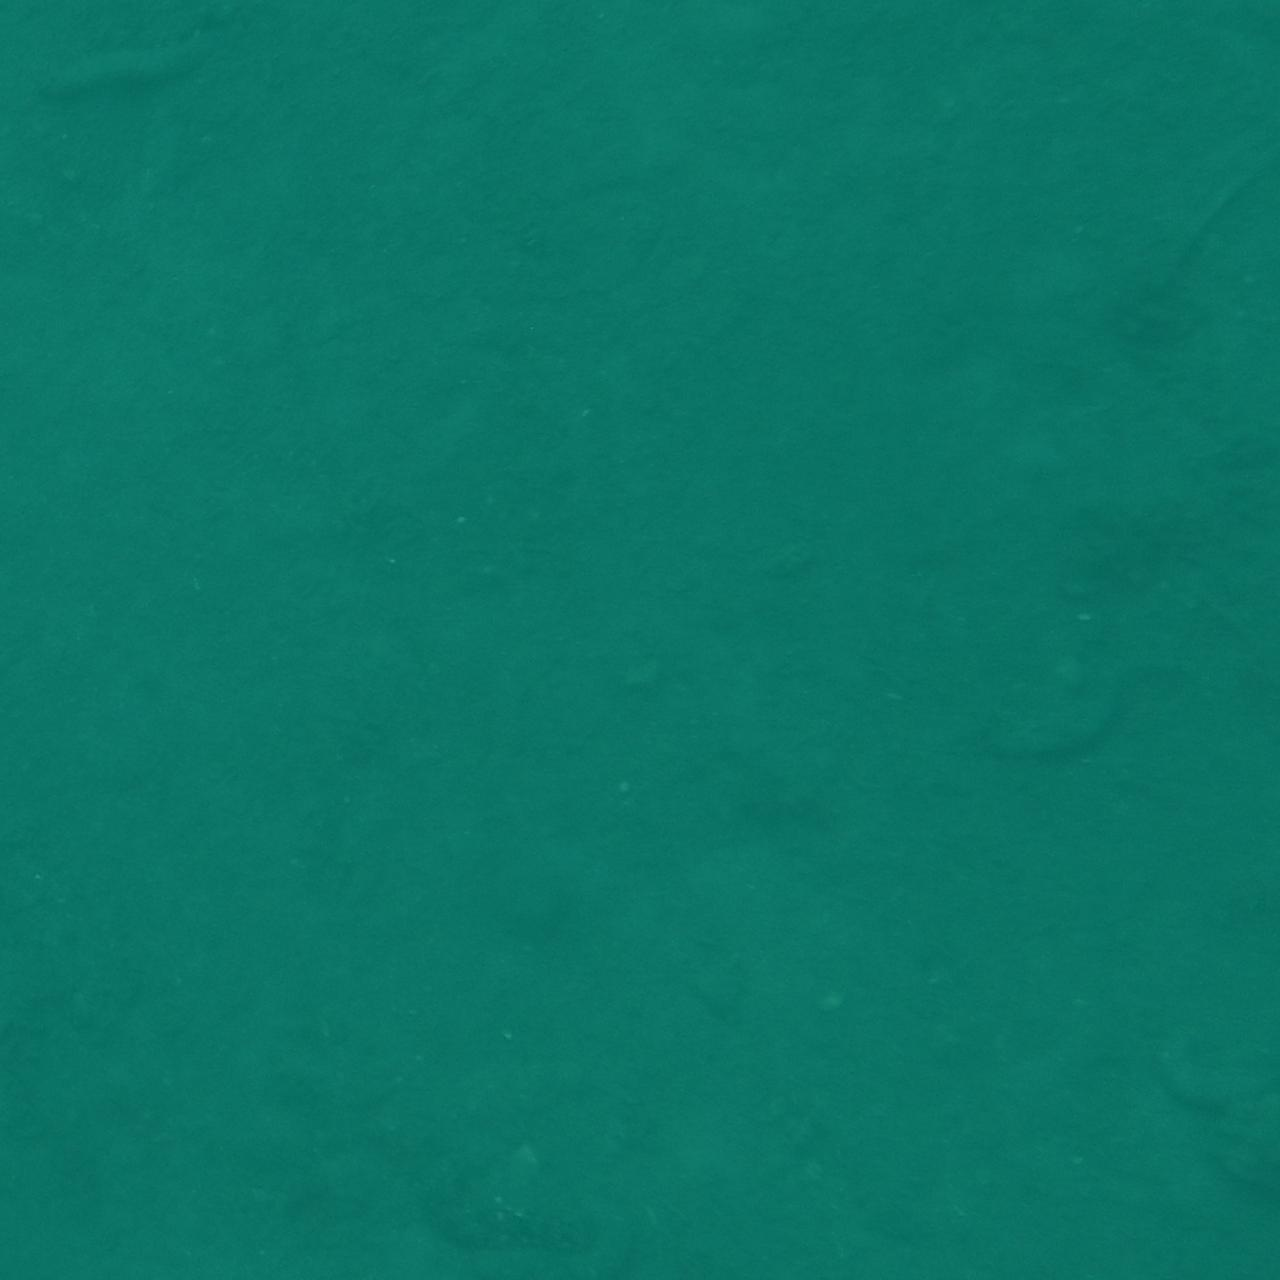Holothuria tubulosa: (1019, 1126, 1273, 1280), (0, 257, 96, 508), (340, 1191, 610, 1280), (979, 653, 1163, 771), (454, 1185, 676, 1280), (1131, 48, 1280, 189), (0, 967, 87, 1180), (34, 13, 226, 97), (1169, 0, 1280, 125), (0, 749, 91, 890), (0, 1164, 96, 1280), (1143, 1201, 1280, 1280), (0, 0, 111, 75), (0, 1187, 73, 1280), (0, 1164, 56, 1280), (1185, 0, 1280, 62), (0, 0, 147, 36)
